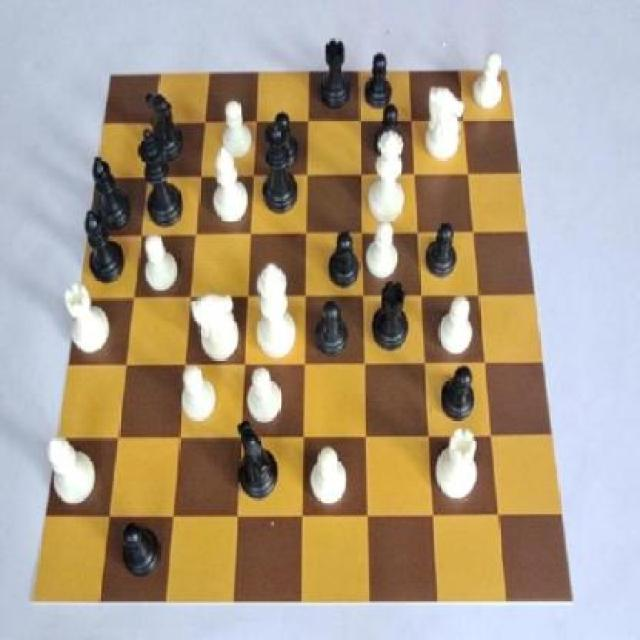bishop: (80, 203, 131, 294), (89, 150, 137, 238)
black-bishop: (134, 123, 189, 231)
black-king: (236, 414, 284, 508), (138, 80, 186, 168)
black-knight: (114, 511, 168, 589), (366, 86, 412, 167), (417, 212, 465, 287), (357, 37, 400, 119), (315, 228, 364, 298), (309, 290, 354, 362), (257, 104, 300, 174), (438, 362, 478, 429)
black-pawn: (256, 118, 306, 221)
black-queen: (369, 278, 420, 359), (314, 36, 356, 112)
black-rook: (43, 428, 99, 520), (210, 140, 252, 228)
white-bishop: (251, 254, 299, 364)
white-king: (185, 280, 247, 370), (420, 80, 468, 164)
white-knight: (243, 360, 295, 440), (173, 359, 224, 436), (304, 440, 358, 509), (466, 46, 512, 116), (140, 226, 182, 300), (364, 218, 406, 290), (218, 94, 257, 166), (434, 288, 476, 354)
white-pawn: (362, 125, 413, 229)
white-queen: (61, 278, 112, 364), (432, 428, 486, 509)
